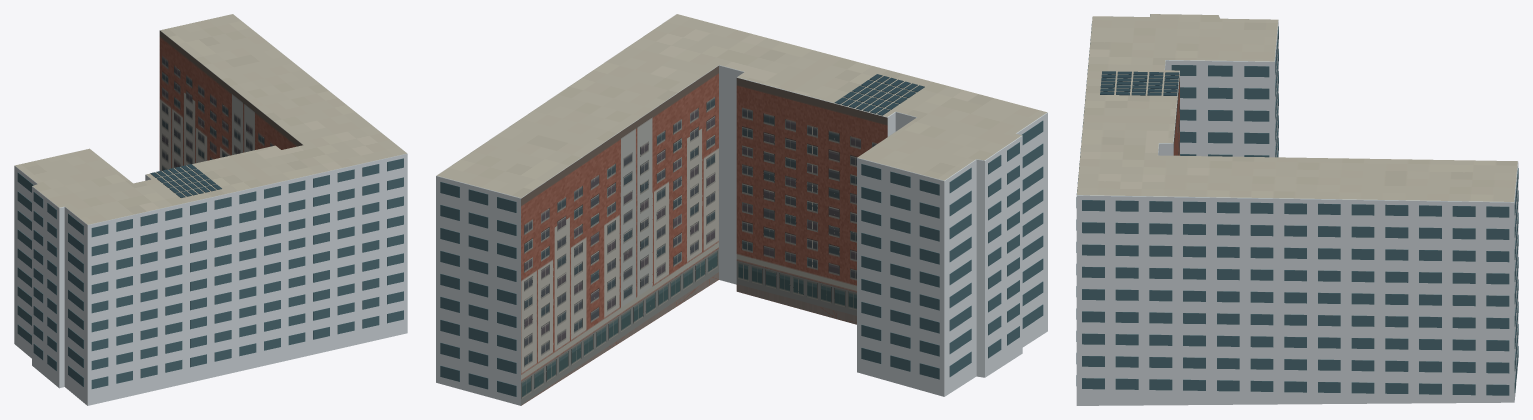
The model's file is fragments.glb.
3 renders of one model, left to right at view 1: azimuth 30°, elevation 25°; view 2: azimuth 150°, elevation 25°; view 3: azimuth 270°, elevation 25°, orthographic. The views are drawn at different scales.
Visible parts, largest first — view 1: SM_boram_Fragment_010, SM_boram_Fragment_030, SM_boram_Fragment_009, SM_boram_Fragment_000, SM_boram_Fragment_031, SM_boram_Fragment_023, SM_boram_Fragment_041, SM_boram_Fragment_020, SM_boram_Fragment_042, SM_boram_Fragment_053, SM_boram_Fragment_056, SM_boram_Fragment_008 (+28 smaller); view 2: SM_boram_Fragment_019, SM_boram_Fragment_034, SM_boram_Fragment_043, SM_boram_Fragment_006, SM_boram_Fragment_018, SM_boram_Fragment_039, SM_boram_Fragment_028, SM_boram_Fragment_055, SM_boram_Fragment_007, SM_boram_Fragment_049, SM_boram_Fragment_037, SM_boram_Fragment_013 (+32 smaller); view 3: SM_boram_Fragment_014, SM_boram_Fragment_048, SM_boram_Fragment_033, SM_boram_Fragment_011, SM_boram_Fragment_013, SM_boram_Fragment_003, SM_boram_Fragment_024, SM_boram_Fragment_012, SM_boram_Fragment_029, SM_boram_Fragment_027, SM_boram_Fragment_047, SM_boram_Fragment_052 (+20 smaller).
Boxes of the visible parts, left/top/right/bottom form: SM_boram_Fragment_010: left=168, top=157, right=280, bottom=251; SM_boram_Fragment_030: left=54, top=300, right=132, bottom=405; SM_boram_Fragment_009: left=266, top=144, right=365, bottom=213; SM_boram_Fragment_000: left=248, top=207, right=333, bottom=296; SM_boram_Fragment_031: left=223, top=292, right=305, bottom=374; SM_boram_Fragment_023: left=146, top=236, right=234, bottom=321; SM_boram_Fragment_041: left=54, top=203, right=132, bottom=298; SM_boram_Fragment_020: left=299, top=273, right=370, bottom=357; SM_boram_Fragment_042: left=332, top=227, right=407, bottom=310; SM_boram_Fragment_053: left=102, top=221, right=170, bottom=308; SM_boram_Fragment_056: left=140, top=180, right=213, bottom=246; SM_boram_Fragment_008: left=165, top=291, right=234, bottom=378; SM_boram_Fragment_019: left=454, top=178, right=560, bottom=329; SM_boram_Fragment_034: left=901, top=257, right=1001, bottom=396; SM_boram_Fragment_043: left=729, top=68, right=815, bottom=189; SM_boram_Fragment_006: left=886, top=177, right=990, bottom=288; SM_boram_Fragment_018: left=736, top=221, right=836, bottom=319; SM_boram_Fragment_039: left=436, top=318, right=559, bottom=405; SM_boram_Fragment_028: left=626, top=45, right=730, bottom=140; SM_boram_Fragment_055: left=929, top=133, right=1020, bottom=220; SM_boram_Fragment_007: left=512, top=143, right=597, bottom=243; SM_boram_Fragment_049: left=857, top=229, right=929, bottom=334; SM_boram_Fragment_037: left=804, top=115, right=872, bottom=235; SM_boram_Fragment_013: left=436, top=146, right=517, bottom=266; SM_boram_Fragment_014: left=1076, top=201, right=1205, bottom=305; SM_boram_Fragment_048: left=1183, top=247, right=1306, bottom=349; SM_boram_Fragment_033: left=1096, top=296, right=1218, bottom=399; SM_boram_Fragment_011: left=1284, top=248, right=1391, bottom=351; SM_boram_Fragment_013: left=1419, top=172, right=1517, bottom=284; SM_boram_Fragment_003: left=1167, top=176, right=1285, bottom=268; SM_boram_Fragment_024: left=1337, top=176, right=1441, bottom=268; SM_boram_Fragment_012: left=1410, top=280, right=1517, bottom=397; SM_boram_Fragment_029: left=1382, top=246, right=1490, bottom=340; SM_boram_Fragment_027: left=1284, top=332, right=1408, bottom=404; SM_boram_Fragment_047: left=1251, top=168, right=1346, bottom=254; SM_boram_Fragment_052: left=1149, top=36, right=1240, bottom=125.
Bounding box in the file's own units: 2.2 × 1.16 × 2.18.
Materials: 8 (3 with a texture image).
